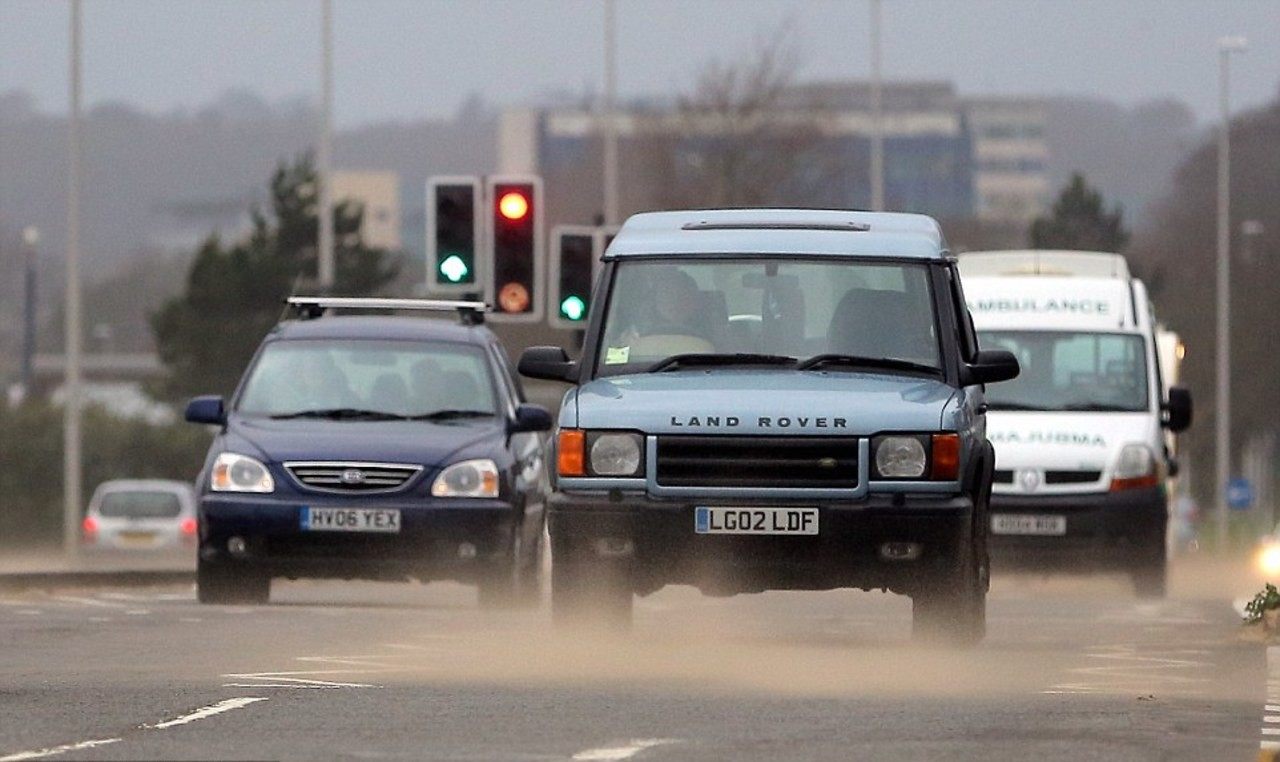car: (527, 209, 1019, 649), (189, 300, 550, 585), (958, 251, 1177, 603), (80, 481, 193, 554)
